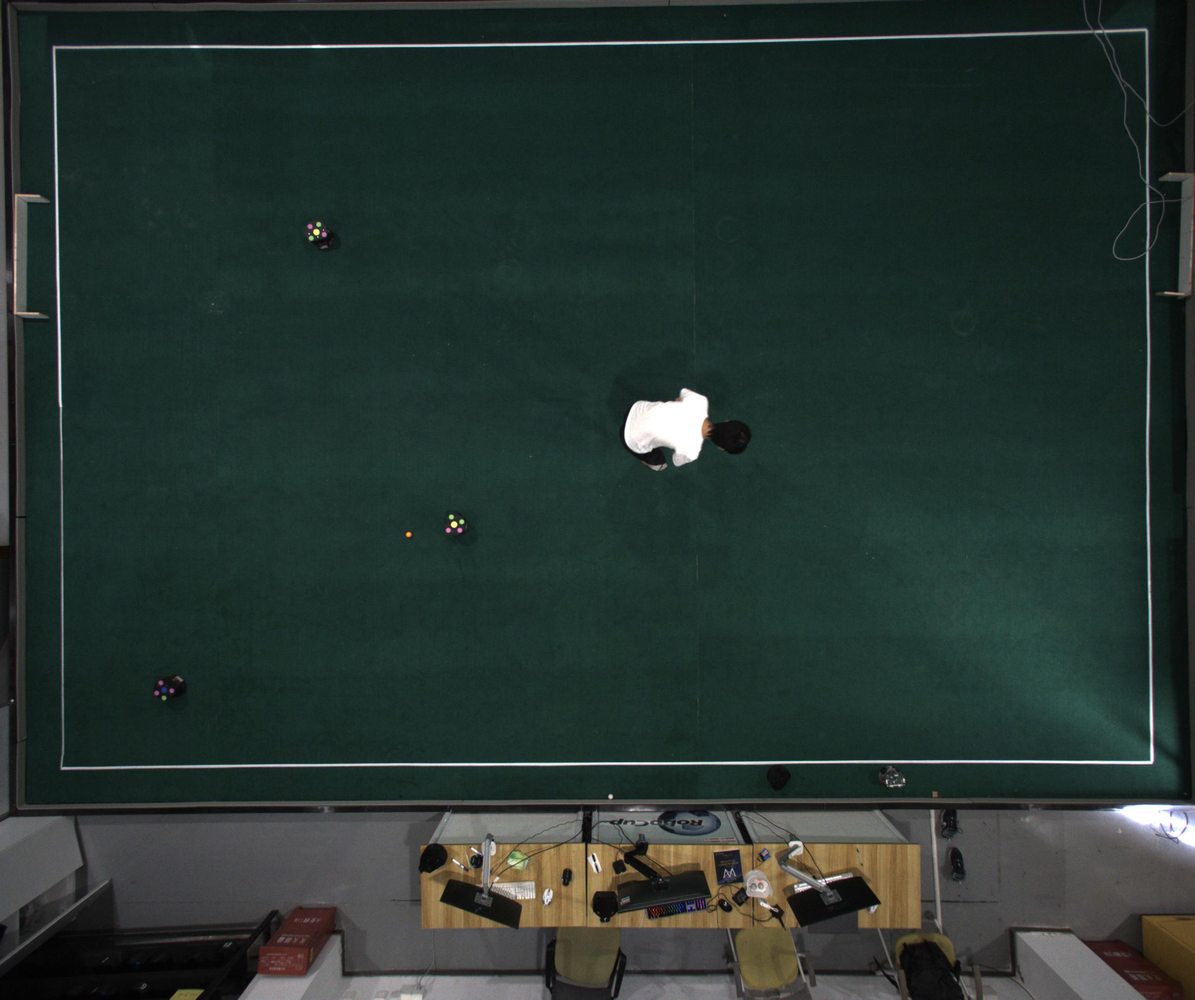ball: (405, 532, 413, 539)
blue_bot: (153, 679, 176, 701)
yellow_bot: (444, 513, 466, 537), (305, 220, 328, 242)
